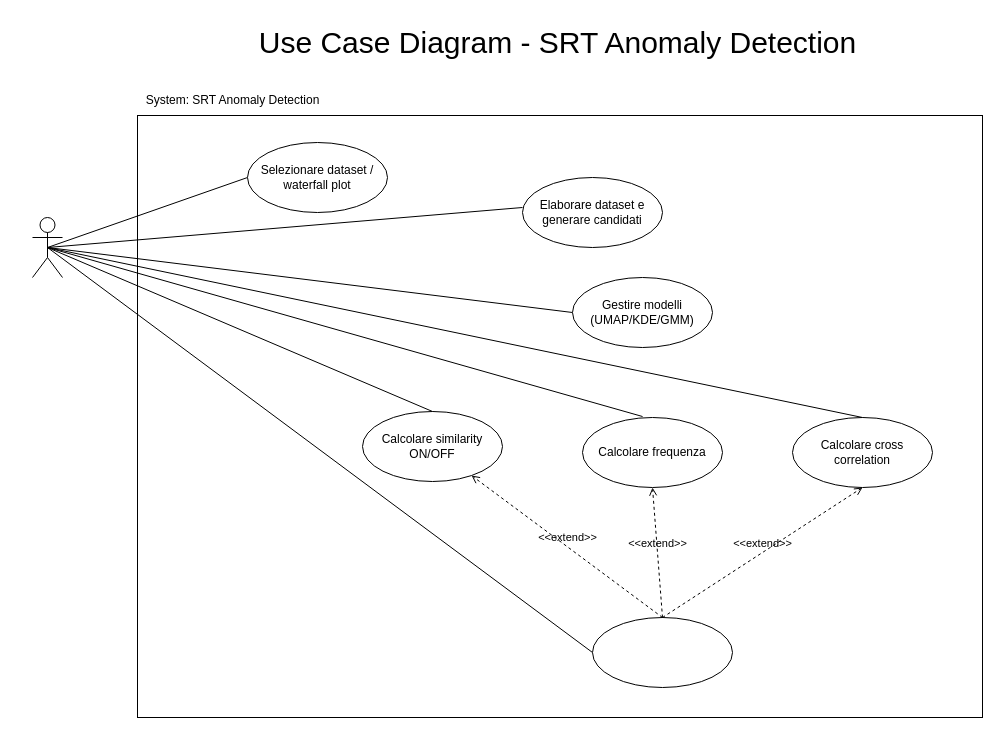
Some shapes in this 1000 by 743 pixel diagram are drawn without their labels. Here are the shapes that lost their labels. From the top down, the centre of each, then its label:
At point (47, 247): "Ricercatore".
At point (662, 652): "Generare ranking e ispezionare Top-K".
